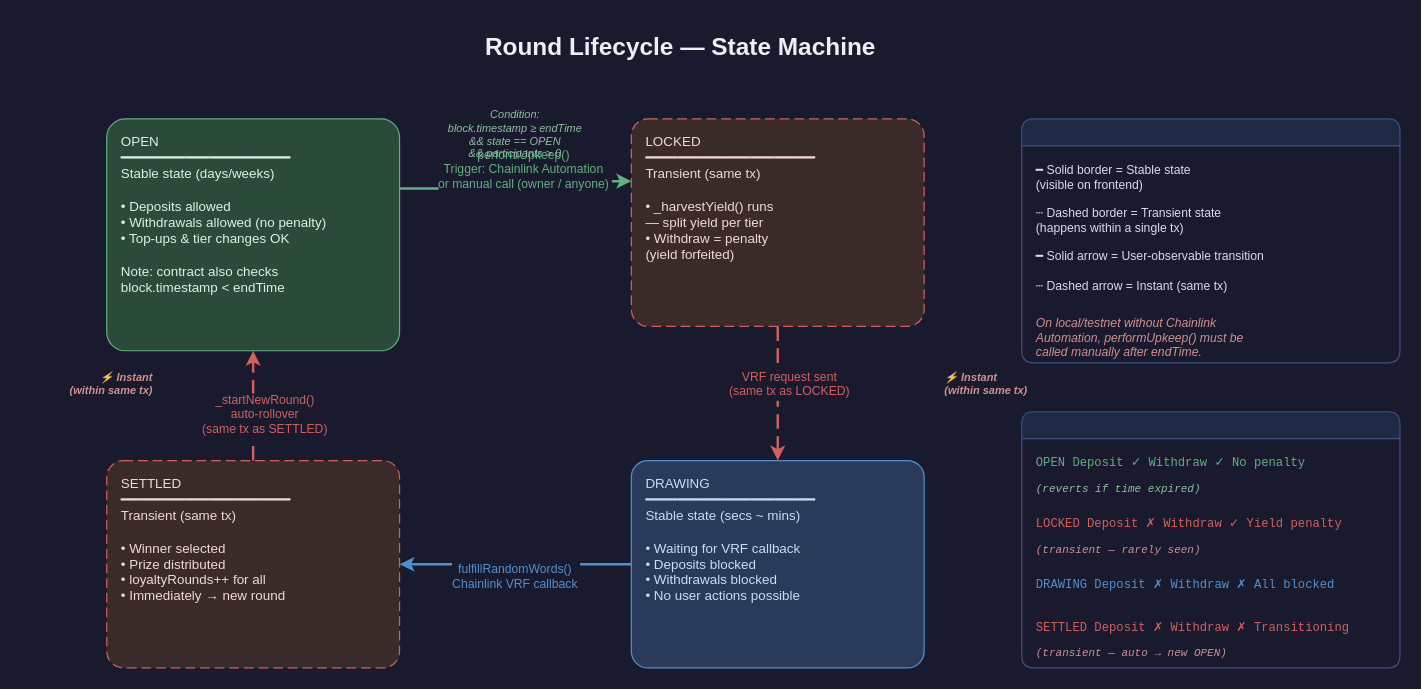
Some shapes in this 1421 by 689 pixel diagram are drawn without their labels. Each missing label, with the box of its shape:
Legend: (1021, 118, 1400, 363)
User Actions by State: (1021, 411, 1400, 668)
